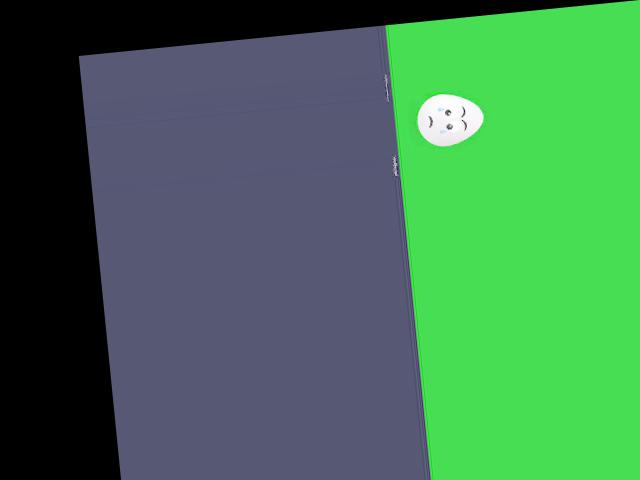egg: (415, 90, 485, 148)
